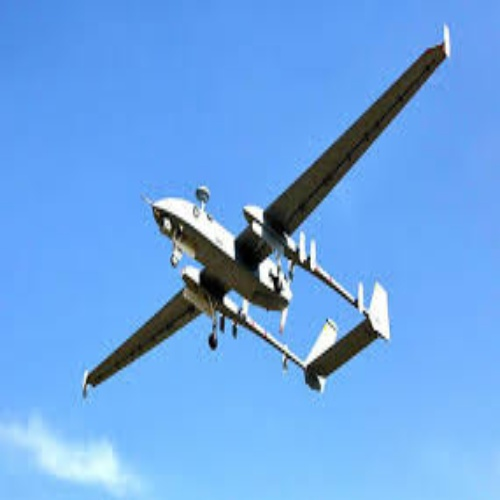uav495: (83, 25, 451, 395)
